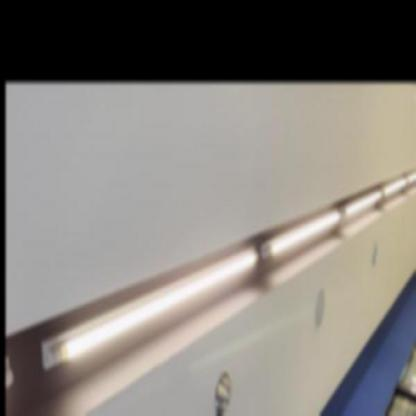light_on: (38, 239, 262, 387), (257, 202, 341, 266), (343, 187, 385, 219), (378, 177, 408, 195), (408, 167, 416, 186)
